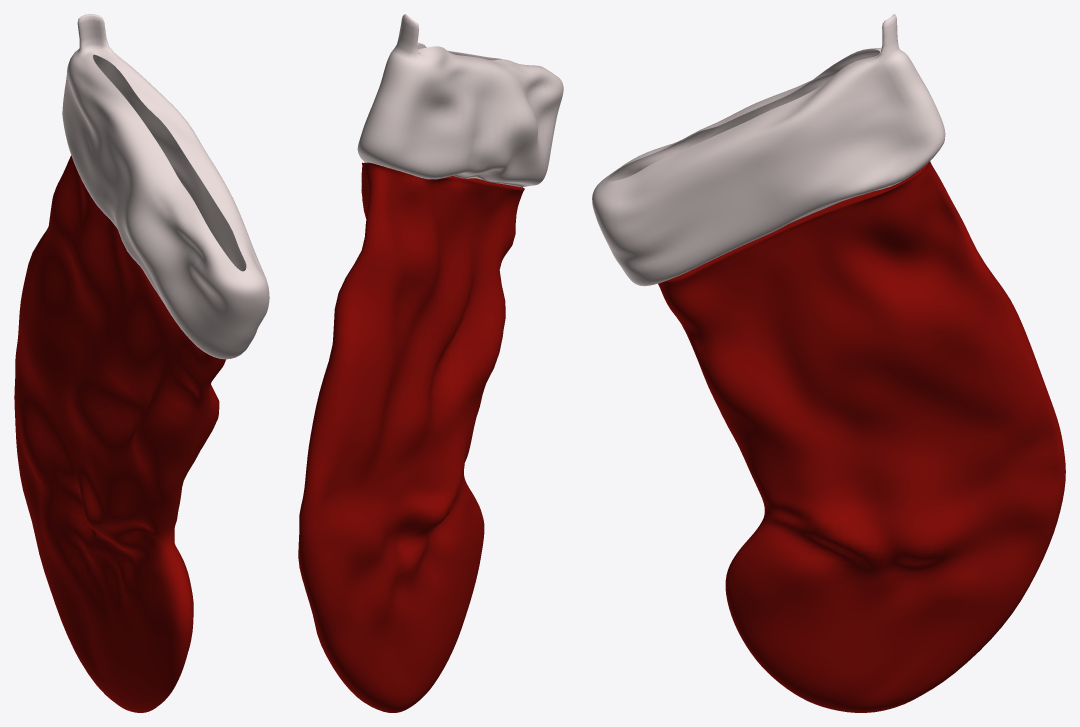
File: sock.fbx
The picture shows the model from 3 angles, left to right: view 1: azimuth 30°, elevation 25°; view 2: azimuth 150°, elevation 25°; view 3: azimuth 270°, elevation 25°; orthographic projection. The views are drawn at different scales.
Parts seen in each view (by area): view 1: CH2, CH2.001; view 2: CH2, CH2.001; view 3: CH2, CH2.001.
Part boxes in pixels (<box>): CH2: <box>14,155,225,712</box>; CH2.001: <box>62,14,269,359</box>; CH2: <box>298,162,524,712</box>; CH2.001: <box>357,14,563,187</box>; CH2: <box>658,161,1065,712</box>; CH2.001: <box>592,14,945,286</box>.
Size of the model in its own units: 69.31 by 487 by 303.
